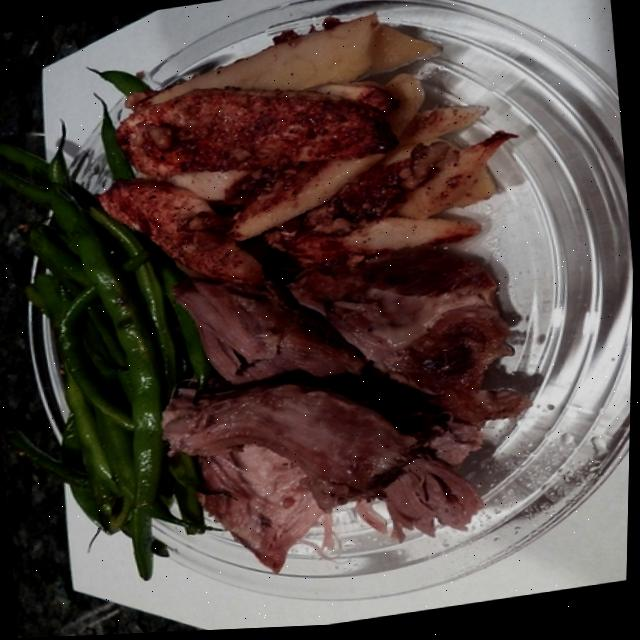猪肉菜式: (33, 0, 568, 583)
